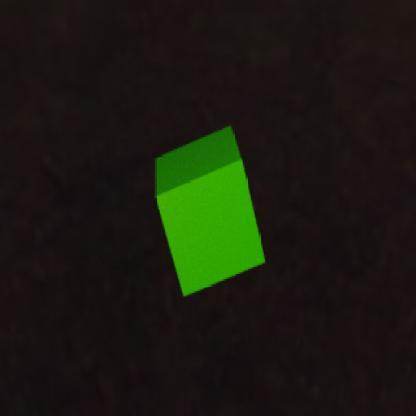green_cube: (155, 125, 264, 296)
